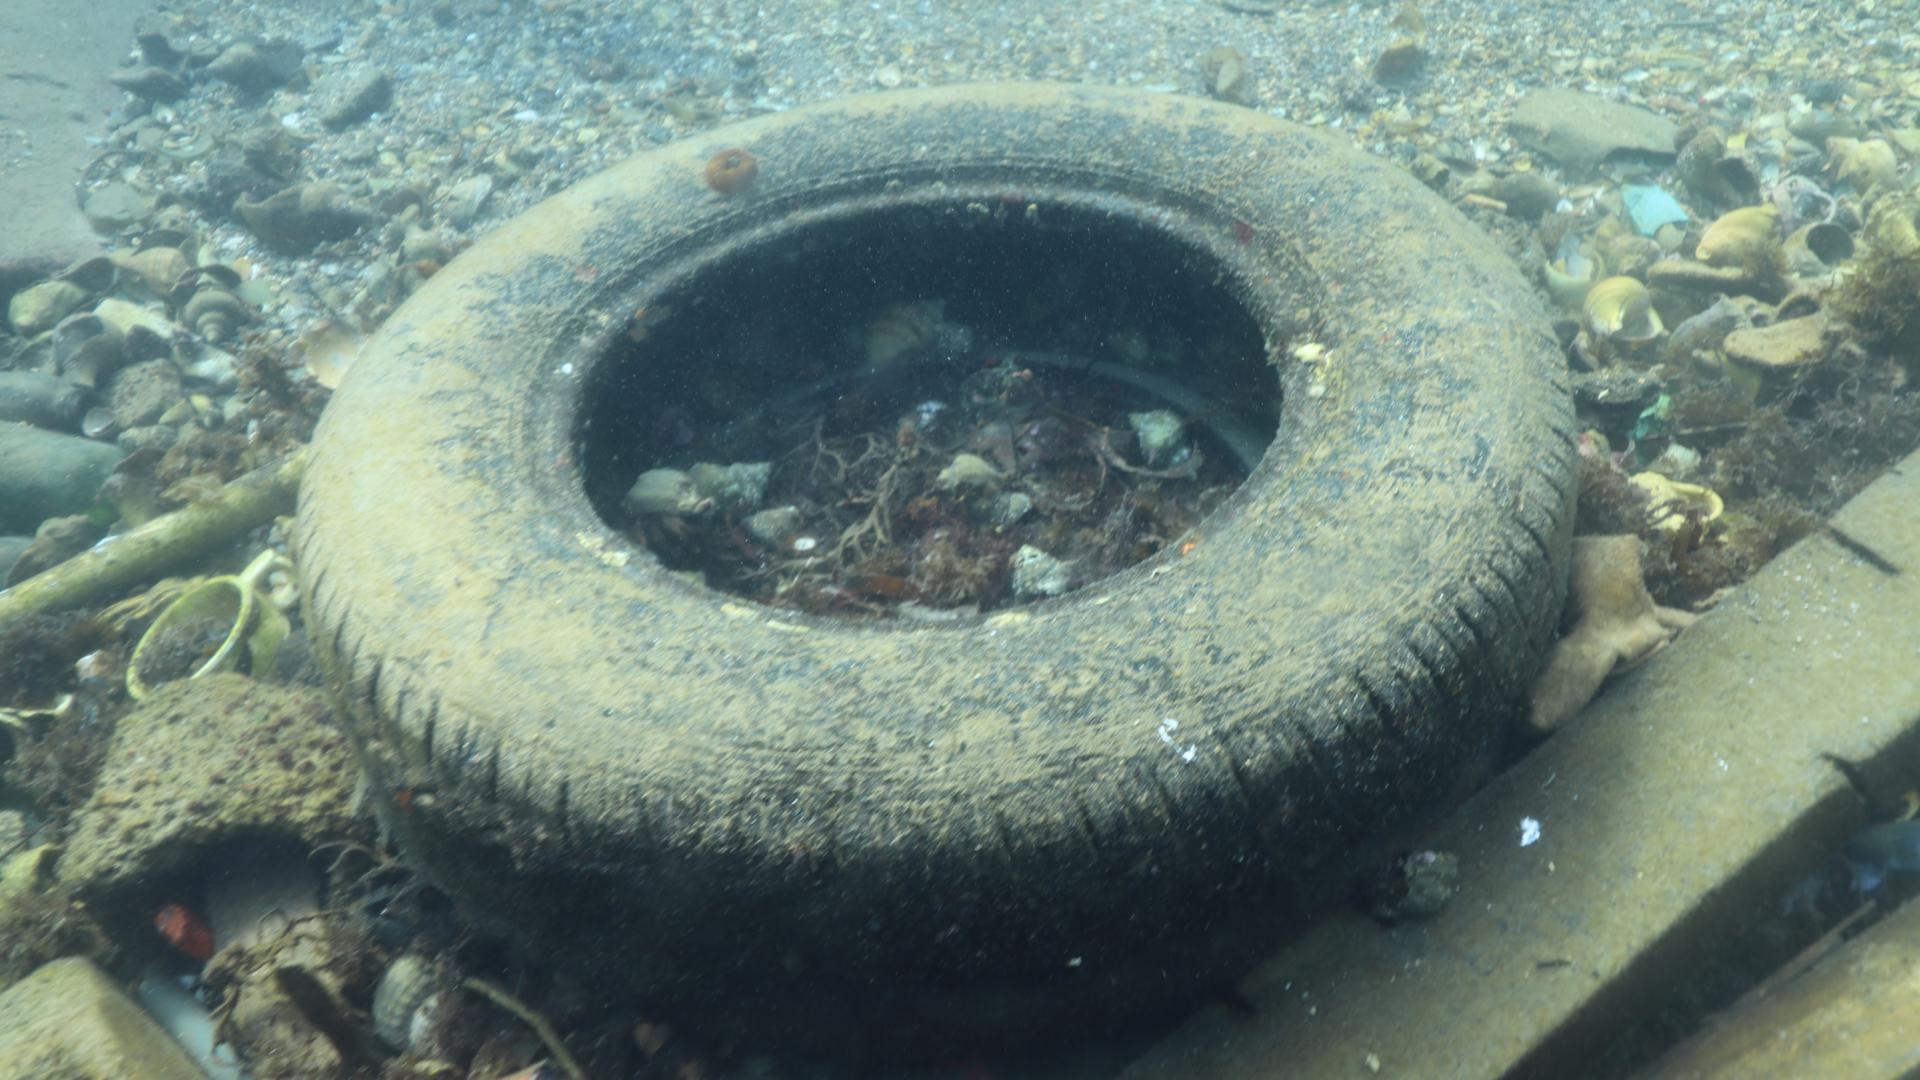tire: (293, 78, 1578, 1073)
wood: (1108, 440, 1920, 1080)
